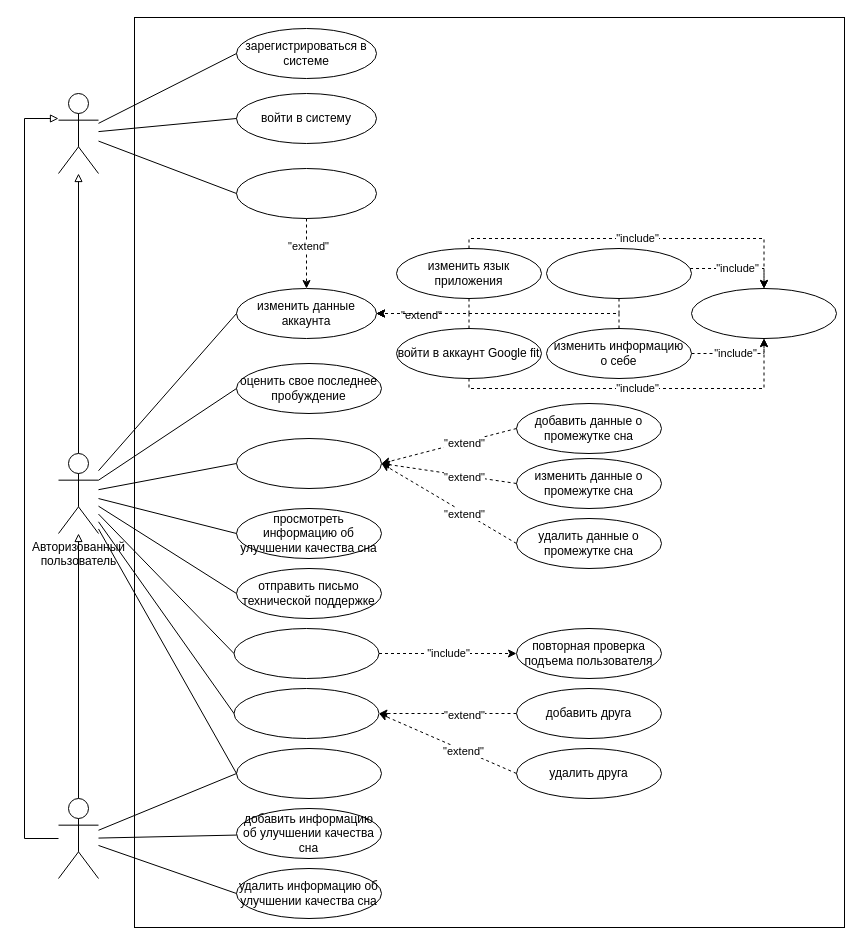
The diagram is 862 pixels wide and 945 high, and some of its shapes have lost their labels. Each missing label, with the centre of its shape:
"Администратор" belongs at [78,838].
"выйти из аккаунта Google fit" belongs at [619,273].
"выйти из системы" belongs at [309,773].
"Неавторизованный пользователь" belongs at [78,133].
"посмотреть данные о промежутках сна" belongs at [309,463].
"посмотреть список друзей" belongs at [306,713].
"резервное копирование настроек" belongs at [763,313].
"сбросить пароль" belongs at [306,193].
"установить умный будильник" belongs at [306,653].
